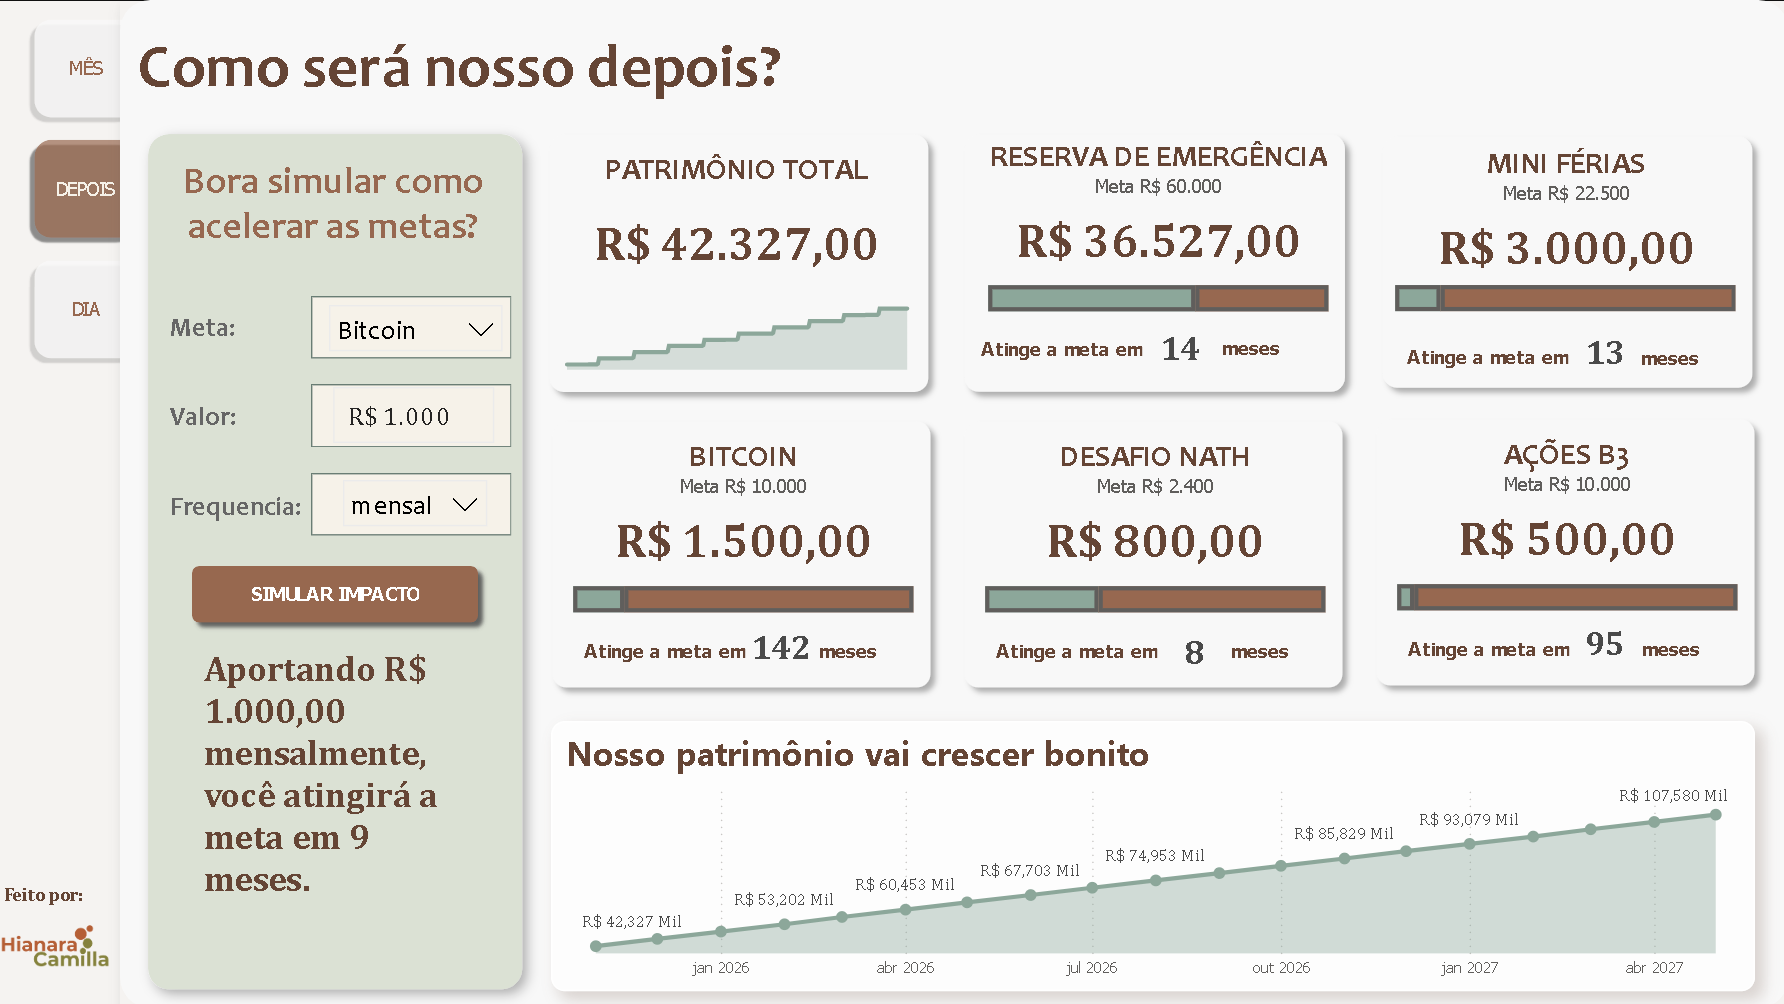

The page's visual inventory and layout, read from the dashboard file:
{"tool":"powerbi","page":{"name":"DEPOIS","canvas":[1280,720],"ordinal":1},"visuals":[{"type":"pageNavigator","box":[11,8,96,256],"z":0},{"type":"shape","box":[88,0,1192,720],"z":1000},{"type":"shape","box":[387.8,292.1,288,208],"z":1000,"group":"g4"},{"type":"textbox","box":[96,16,632,80],"z":2000},{"type":"shape","box":[94,82,294.5,638.2],"z":3000,"group":"g7"},{"type":"shape","box":[973.1,83.3,290,207.3],"z":3000,"group":"g1"},{"type":"lineChart","title":"Nosso patrimônio vai crescer bonito","fields":{"Category":["D_Calendario.AnoMes"],"Y":["D_Metas.Patrimonio Projecao 18M"]},"box":[396,515,860,193],"z":3000},{"type":"shape","box":[674.3,82.2,297.5,211.7],"z":4000,"group":"g3"},{"type":"group","id":"g1","title":"Grupo 3","box":[973.1,83.3,290,207.3],"z":4000},{"type":"textbox","box":[124.2,107.5,232.7,89.3],"z":4000,"group":"g7"},{"type":"group","id":"g2","title":"Grupo 1","box":[377.9,81.8,296.4,211.8],"z":5000},{"type":"textbox","box":[118.5,216.7,112,40],"z":5000,"group":"g7"},{"type":"card","title":"BITCOIN","fields":{"Values":["D_Metas.Valor Atual Meta"]},"box":[403.8,308.1,256,112],"z":5000,"group":"g4"},{"type":"group","id":"g3","title":"Grupo 2","box":[674.3,82.2,297.5,211.7],"z":6000},{"type":"textbox","box":[118.5,280.8,80,40],"z":6000,"group":"g7"},{"type":"group","id":"g4","title":"Grupo 4","box":[387.8,292.1,288,208],"z":7000},{"type":"textbox","box":[411.1,452.1,128,32],"z":7000,"group":"g4"},{"type":"group","id":"g5","title":"Grupo 5","box":[682.1,292.2,288,208],"z":8000},{"type":"textbox","box":[118.5,344.7,122.7,40],"z":8000,"group":"g7"},{"type":"shape","box":[224.2,274.2,143.3,45.3],"z":9000,"group":"g7"},{"type":"group","id":"g6","title":"Grupo 6","box":[976.7,291,288,208],"z":9000},{"type":"cardVisual","fields":{"Data":["D_Metas.Meses Restantes Meta (Historico)"]},"box":[510.1,426.6,112.6,67.4],"z":9000,"group":"g4"},{"type":"group","id":"g7","title":"Grupo 7","box":[94,82,294,638],"z":10000},{"type":"shape","box":[976.7,291,288,208],"z":10000,"group":"g6"},{"type":"cardVisual","fields":{"Data":["D_Metas.Texto Simulador"]},"box":[118.2,400.9,240.2,302.5],"z":10000,"group":"g7"},{"type":"slicer","fields":{"Values":["Param Aporte.Param Aporte"]},"box":[231.6,271.4,130,50],"z":11000,"group":"g7"},{"type":"image","box":[0,639,84,72],"z":11000},{"type":"shape","box":[224.2,337.5,143.3,44.7],"z":12000,"group":"g7"},{"type":"textbox","box":[579.3,452.3,80.7,31.9],"z":12000,"group":"g4"},{"type":"textbox","box":[0,626,76,40],"z":12000},{"type":"card","title":"MINI FÉRIAS","fields":{"Values":["D_Metas.Valor Atual Meta"]},"box":[992,98.1,256,112],"z":13000,"group":"g1"},{"type":"shape","box":[682.1,292.2,288,208],"z":13000,"group":"g5"},{"type":"slicer","fields":{"Values":["Param Frequencia.Frequencia"]},"box":[237.2,332.7,122.5,53.8],"z":13000,"group":"g7"},{"type":"shape","box":[224.2,211.5,143.3,44.7],"z":14000,"group":"g7"},{"type":"slicer","fields":{"Values":["D_Metas.caixinha"]},"box":[226.8,207.5,144,44.7],"z":15000,"group":"g7"},{"type":"card","title":"AÇÕES B3","fields":{"Values":["D_Metas.Valor Atual Meta"]},"box":[992.7,307,256,112],"z":18000,"group":"g6"},{"type":"textbox","box":[999.2,242.1,128,32],"z":19000,"group":"g1"},{"type":"card","title":"DESAFIO NATH","fields":{"Values":["D_Metas.Valor Atual Meta"]},"box":[698.1,308.2,256,112],"z":22000,"group":"g5"},{"type":"actionButton","box":[131.2,396.2,220,56],"z":22000,"group":"g7"},{"type":"cardVisual","fields":{"Data":["D_Metas.Meses Restantes Meta (Historico)"]},"box":[1102.8,219.5,96.7,59.4],"z":23000,"group":"g1"},{"type":"shape","box":[377.9,81.8,296.4,211.8],"z":23500,"group":"g2"},{"type":"card","title":"PATRIMÔNIO TOTAL","fields":{"Values":["D_Metas.Patrimonio Investimentos Atual"]},"box":[405.2,102.7,242.7,114.5],"z":24000,"group":"g2"},{"type":"textbox","box":[1166.9,242.3,80.7,37.2],"z":26000,"group":"g1"},{"type":"textbox","box":[1000,451,128,32],"z":26000,"group":"g6"},{"type":"hundredPercentStackedBarChart","fields":{"Y":["D_Metas.Meta_Progresso","D_Metas.Meta_Restante"],"Category":["D_Metas.caixinha"]},"box":[403.8,380.6,256,88],"z":28000,"group":"g4"},{"type":"hundredPercentStackedBarChart","fields":{"Y":["D_Metas.Meta_Progresso","D_Metas.Meta_Restante"],"Category":["D_Metas.caixinha"]},"box":[991.3,165.2,256.3,87.8],"z":29000,"group":"g1"},{"type":"lineChart","fields":{"Y":["D_Metas.Patrimonio Investimentos Acumulado"],"Category":["D_Calendario.Data"]},"box":[391.9,186.8,273,83],"z":29000,"group":"g2"},{"type":"textbox","box":[705.4,452.2,128,32],"z":30000,"group":"g5"},{"type":"cardVisual","fields":{"Data":["D_Metas.Meses Restantes Meta (Historico)"]},"box":[1105.5,423.7,91.3,67.4],"z":31000,"group":"g6"},{"type":"cardVisual","fields":{"Data":["D_Metas.Meses Restantes Meta (Historico)"]},"box":[818.3,432,75.4,63.8],"z":32000,"group":"g5"},{"type":"textbox","box":[1167.6,451.2,88.7,39.9],"z":33000,"group":"g6"},{"type":"textbox","box":[873.3,452.4,80.7,31.9],"z":34000,"group":"g5"},{"type":"hundredPercentStackedBarChart","fields":{"Y":["D_Metas.Meta_Progresso","D_Metas.Meta_Restante"],"Category":["D_Metas.caixinha"]},"box":[698.1,380.7,256,88],"z":35000,"group":"g5"},{"type":"hundredPercentStackedBarChart","fields":{"Y":["D_Metas.Meta_Progresso","D_Metas.Meta_Restante"],"Category":["D_Metas.caixinha"]},"box":[992.7,379.5,256,88],"z":36000,"group":"g6"},{"type":"card","title":"RESERVA DE EMERGÊNCIA","fields":{"Values":["D_Metas.Valor Atual Meta"]},"box":[700.1,93.7,256,112],"z":38000,"group":"g3"},{"type":"textbox","box":[695.1,236.7,128,32],"z":39000,"group":"g3"},{"type":"cardVisual","fields":{"Data":["D_Metas.Meses Restantes Meta (Historico)"]},"box":[799.3,218.2,95,57],"z":40000,"group":"g3"},{"type":"textbox","box":[867.1,235.7,89,48],"z":41000,"group":"g3"},{"type":"hundredPercentStackedBarChart","fields":{"Y":["D_Metas.Meta_Progresso","D_Metas.Meta_Restante"],"Category":["D_Metas.caixinha"]},"box":[700.1,165.7,256,88],"z":43000,"group":"g3"}]}

Visuals, with their boxes in screenshot pixels (x1, y1, x2, y2), scaled from the page's 1280x720 canvas onto the 1784x1004 screenshot:
pageNavigator: Rect(15, 11, 149, 368)
shape: Rect(123, 0, 1783, 1003)
shape: Rect(540, 407, 942, 697)
textbox: Rect(134, 22, 1015, 134)
shape: Rect(131, 114, 541, 1003)
shape: Rect(1356, 116, 1760, 405)
"Nosso patrimônio vai crescer bonito" lineChart: Rect(552, 718, 1751, 987)
shape: Rect(940, 115, 1354, 410)
"Grupo 3" group: Rect(1356, 116, 1760, 405)
textbox: Rect(173, 150, 497, 274)
"Grupo 1" group: Rect(527, 114, 940, 409)
textbox: Rect(165, 302, 321, 358)
"BITCOIN" card: Rect(563, 430, 920, 586)
"Grupo 2" group: Rect(940, 115, 1354, 410)
textbox: Rect(165, 392, 277, 447)
"Grupo 4" group: Rect(540, 407, 942, 697)
textbox: Rect(573, 630, 751, 675)
"Grupo 5" group: Rect(951, 407, 1352, 698)
textbox: Rect(165, 481, 336, 536)
shape: Rect(312, 382, 512, 446)
"Grupo 6" group: Rect(1361, 406, 1763, 696)
cardVisual - D_Metas.Meses Restantes Meta (Historico): Rect(711, 595, 868, 689)
"Grupo 7" group: Rect(131, 114, 541, 1003)
shape: Rect(1361, 406, 1763, 696)
cardVisual - D_Metas.Texto Simulador: Rect(165, 559, 500, 981)
slicer - Param Aporte.Param Aporte: Rect(323, 378, 504, 448)
image: Rect(0, 891, 117, 991)
shape: Rect(312, 471, 512, 533)
textbox: Rect(807, 631, 920, 675)
textbox: Rect(0, 873, 106, 929)
"MINI FÉRIAS" card: Rect(1383, 137, 1739, 293)
shape: Rect(951, 407, 1352, 698)
slicer - Param Frequencia.Frequencia: Rect(331, 464, 501, 539)
shape: Rect(312, 295, 512, 357)
slicer - D_Metas.caixinha: Rect(316, 289, 517, 352)
"AÇÕES B3" card: Rect(1384, 428, 1740, 584)
textbox: Rect(1393, 338, 1571, 382)
"DESAFIO NATH" card: Rect(973, 430, 1330, 586)
actionButton: Rect(183, 552, 489, 631)
cardVisual - D_Metas.Meses Restantes Meta (Historico): Rect(1537, 306, 1672, 389)
shape: Rect(527, 114, 940, 409)
"PATRIMÔNIO TOTAL" card: Rect(565, 143, 903, 303)
textbox: Rect(1626, 338, 1739, 390)
textbox: Rect(1394, 629, 1572, 674)
hundredPercentStackedBarChart - D_Metas.Meta_Progresso x D_Metas.Meta_Restante: Rect(563, 531, 920, 653)
hundredPercentStackedBarChart - D_Metas.Meta_Progresso x D_Metas.Meta_Restante: Rect(1382, 230, 1739, 353)
lineChart - D_Metas.Patrimonio Investimentos Acumulado x D_Calendario.Data: Rect(546, 260, 927, 376)
textbox: Rect(983, 631, 1162, 675)
cardVisual - D_Metas.Meses Restantes Meta (Historico): Rect(1541, 591, 1668, 685)
cardVisual - D_Metas.Meses Restantes Meta (Historico): Rect(1141, 602, 1246, 691)
textbox: Rect(1627, 629, 1751, 685)
textbox: Rect(1217, 631, 1330, 675)
hundredPercentStackedBarChart - D_Metas.Meta_Progresso x D_Metas.Meta_Restante: Rect(973, 531, 1330, 654)
hundredPercentStackedBarChart - D_Metas.Meta_Progresso x D_Metas.Meta_Restante: Rect(1384, 529, 1740, 652)
"RESERVA DE EMERGÊNCIA" card: Rect(976, 131, 1333, 287)
textbox: Rect(969, 330, 1147, 375)
cardVisual - D_Metas.Meses Restantes Meta (Historico): Rect(1114, 304, 1246, 384)
textbox: Rect(1209, 329, 1333, 396)
hundredPercentStackedBarChart - D_Metas.Meta_Progresso x D_Metas.Meta_Restante: Rect(976, 231, 1333, 354)
